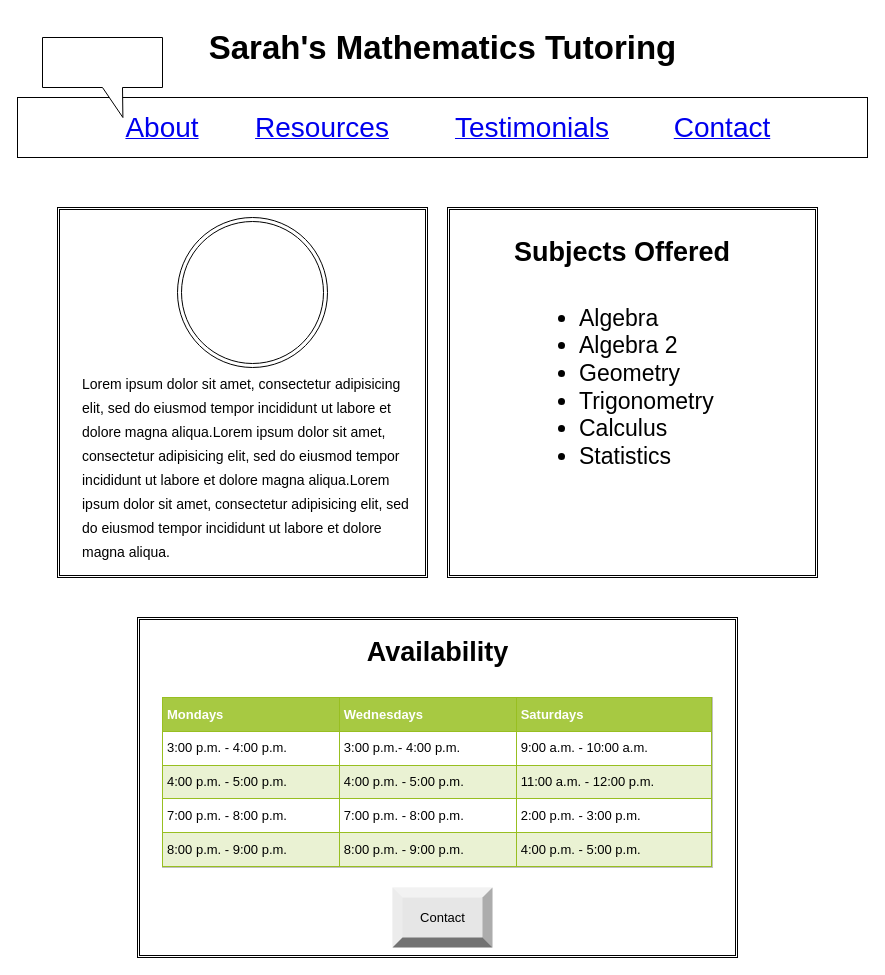
This 885x975 diagram has some shape labels left out. Here are the shapes that lost their labels. From the top down, the centre of each, then its label:
pixel 102 77: Highlighted when on "About" page
pixel 252 292: Sarah photo
